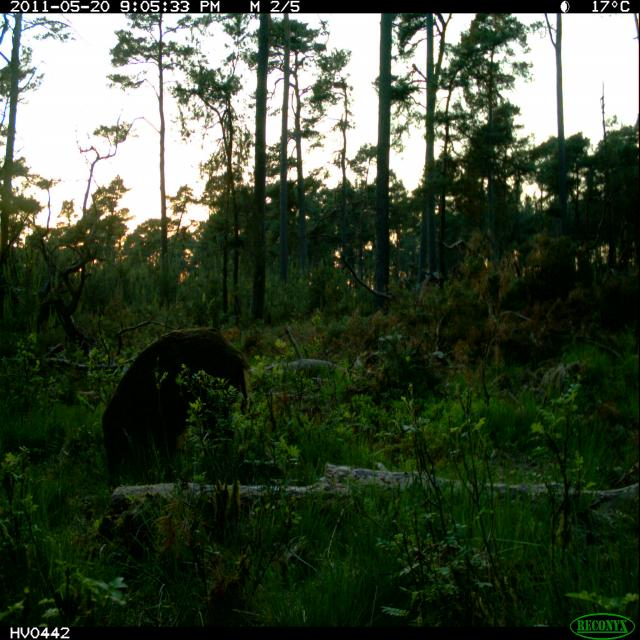boar: (62, 296, 274, 490)
